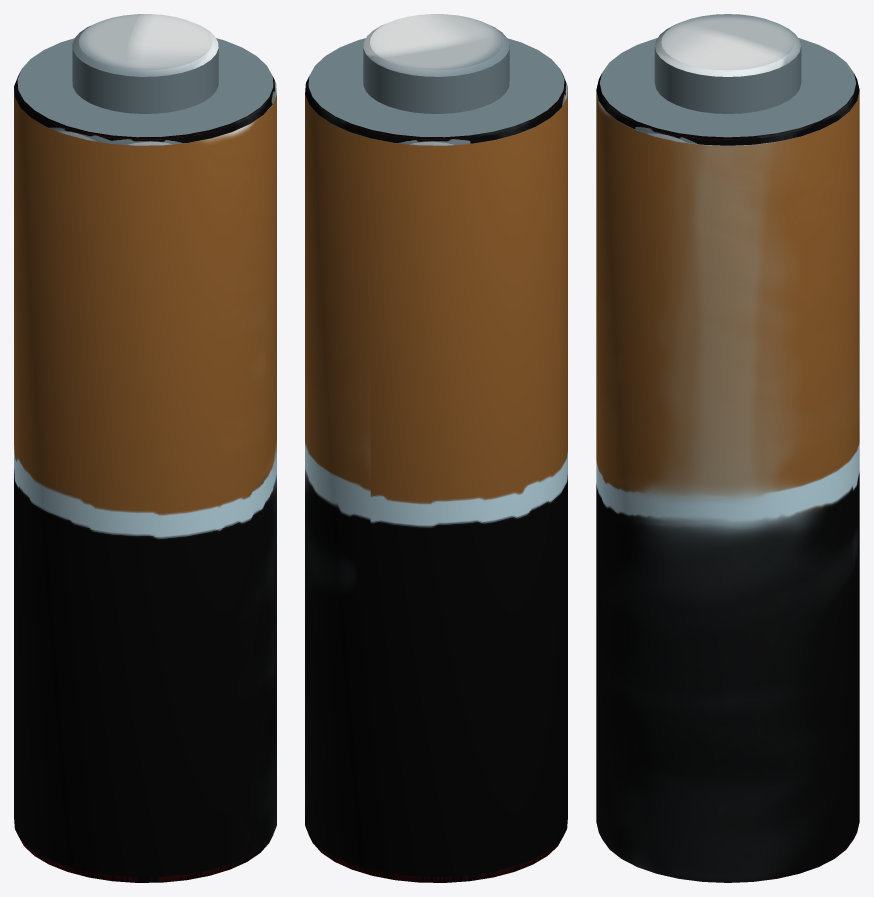
The model's file is battery.fbx.
3 views of the same model, side by side, from view 1: azimuth 30°, elevation 25°; view 2: azimuth 150°, elevation 25°; view 3: azimuth 270°, elevation 25° (orthographic).
Visible parts, largest first — view 1: Cylinder; view 2: Cylinder; view 3: Cylinder.
Boxes of the visible parts, x1,y1,x2,y2 form: Cylinder: (14, 14, 276, 882); Cylinder: (305, 14, 567, 882); Cylinder: (596, 14, 859, 882).
Size of the model in its own units: 106 by 348 by 106.
